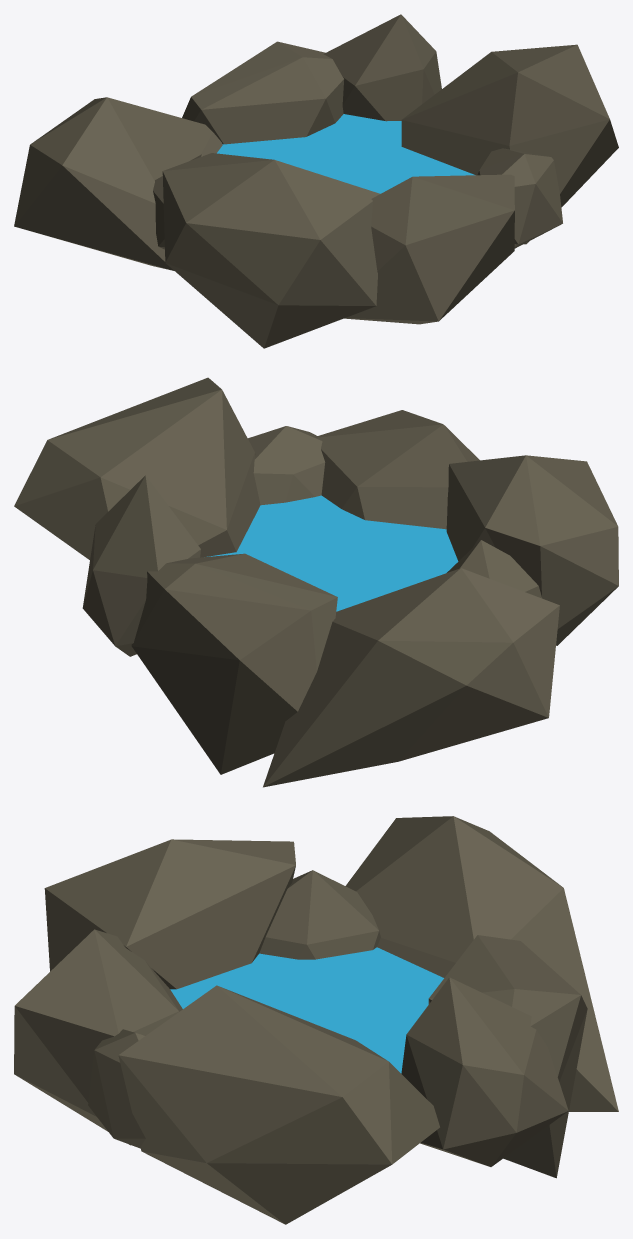
Rendered from WaterSource.fbx.
3 renders of one model, top to bottom at view 1: azimuth 30°, elevation 25°; view 2: azimuth 150°, elevation 25°; view 3: azimuth 270°, elevation 25°, orthographic. The views are drawn at different scales.
Visible parts, largest first — view 1: Cylinder; view 2: Cylinder; view 3: Cylinder.
Part boxes in pixels (bbox=[...]): Cylinder: bbox=[14, 14, 618, 348]; Cylinder: bbox=[14, 377, 618, 787]; Cylinder: bbox=[14, 816, 618, 1224].
Bounding box in the file's own units: 350 × 142 × 283.
